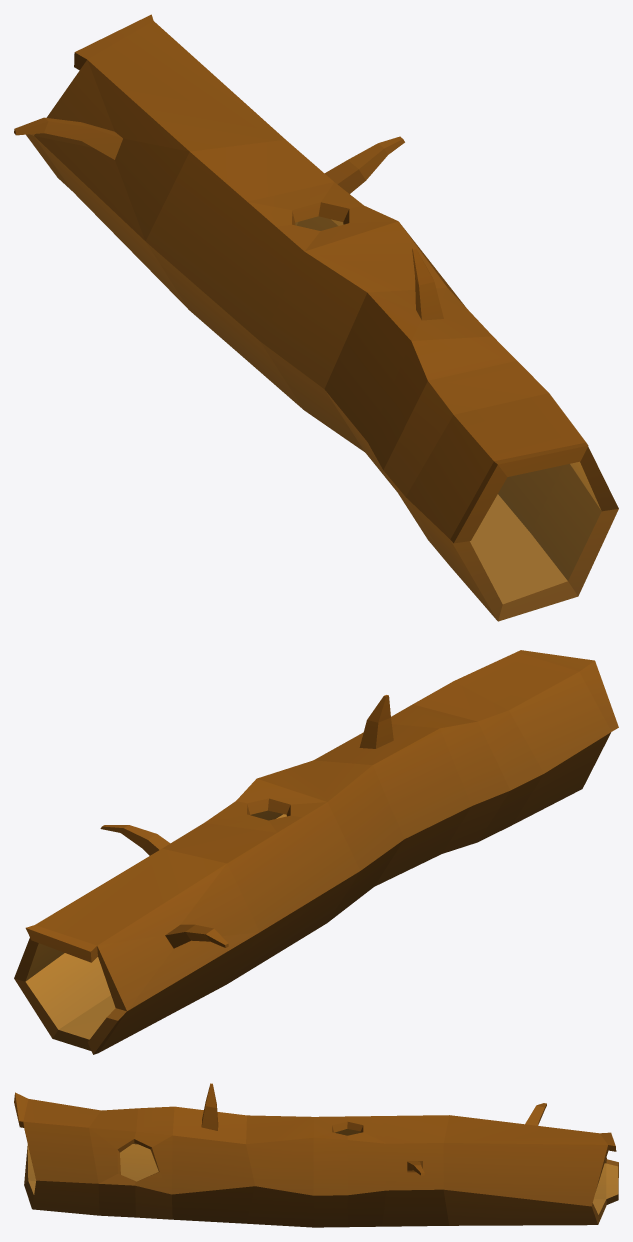
Rendered from log_3.fbx.
3 views of the same model, one above another, from view 1: azimuth 30°, elevation 25°; view 2: azimuth 150°, elevation 25°; view 3: azimuth 270°, elevation 25° (orthographic). The views are drawn at different scales.
Parts seen in each view (by area): view 1: log 3; view 2: log 3; view 3: log 3.
Part boxes in pixels (box(x1,y1,x2,y2)): log 3: box(14, 14, 618, 621); log 3: box(14, 650, 618, 1054); log 3: box(14, 1083, 618, 1227).
Bounding box in the file's own units: 6.94 × 2.29 × 1.59.
